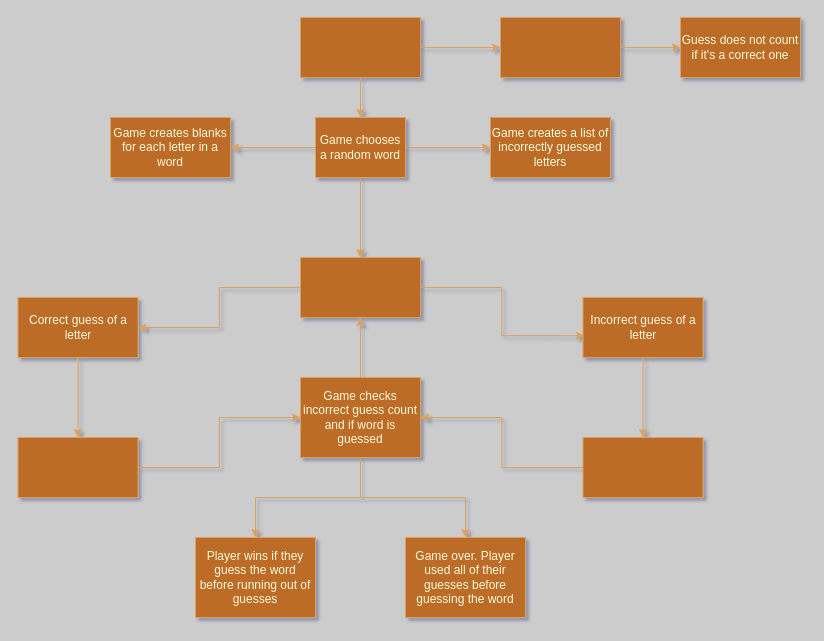
Image size: 824x641. Some labels were removed from this diagram. Here are the shapes that lost their labels. From the top down, the centre of each, then its label:
the point at 360,47: Welcome to Hangman!
the point at 560,47: Player has 7 guesses before losing
the point at 360,287: Player takes a guess of a letter
the point at 77,467: Show letter/s in the word
the point at 642,467: Start drawing the hangman and add that letter into used letter list
